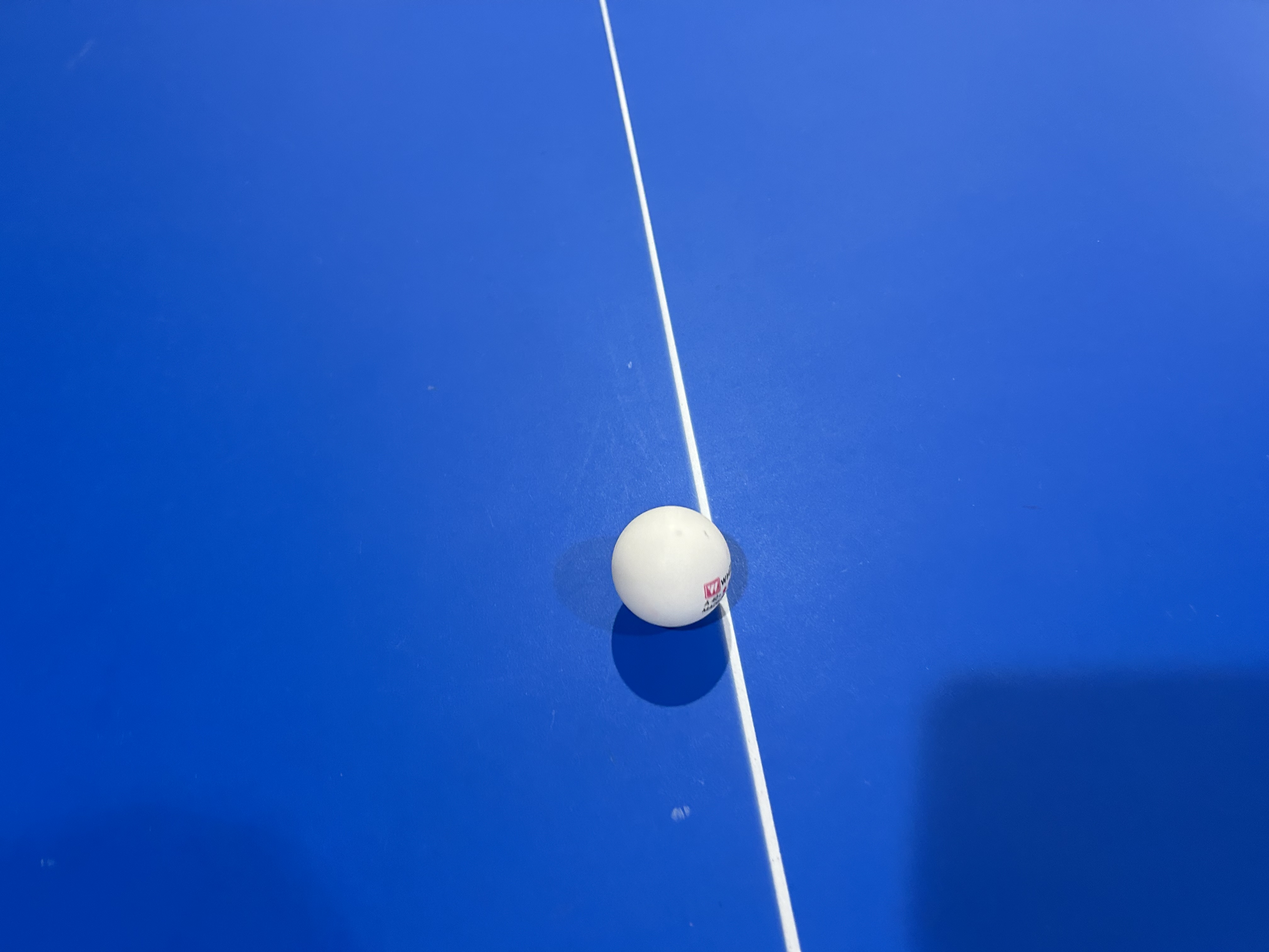Ball: (607, 498, 739, 629)
